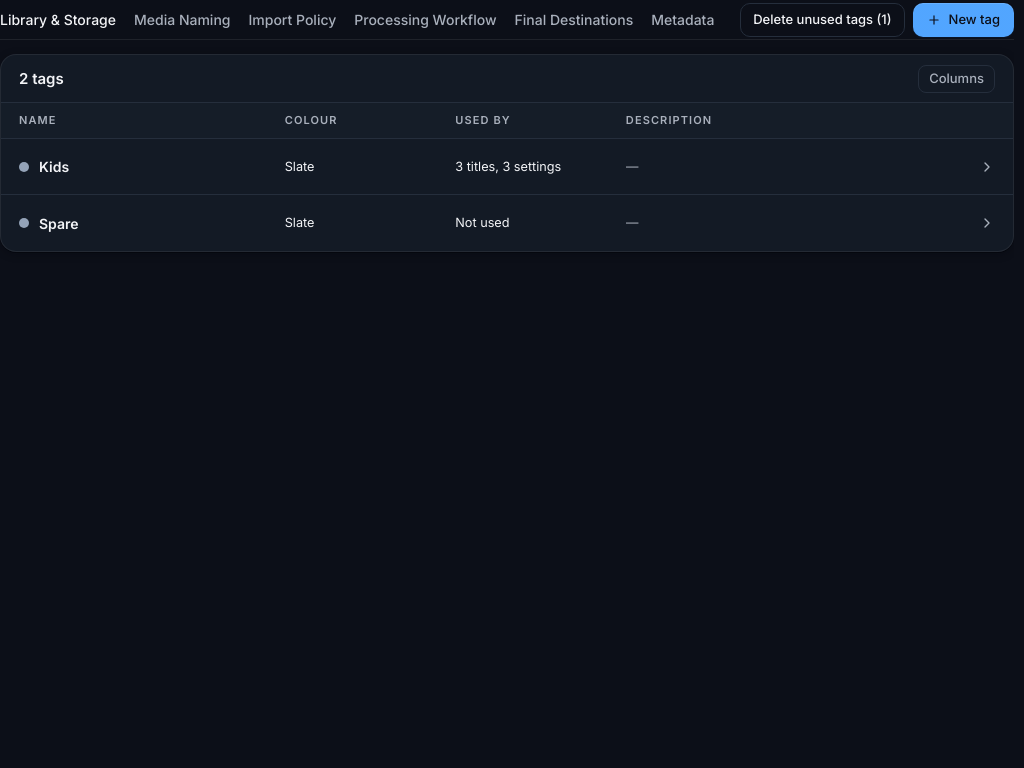
Tags page (#1039) › tells the person the server's reason when a repeated tag name is refused (#1341)
The width and height of the screenshot is (1024, 768).
Click the button "New tag".
click(963, 20)  # box [913, 2, 1014, 36]
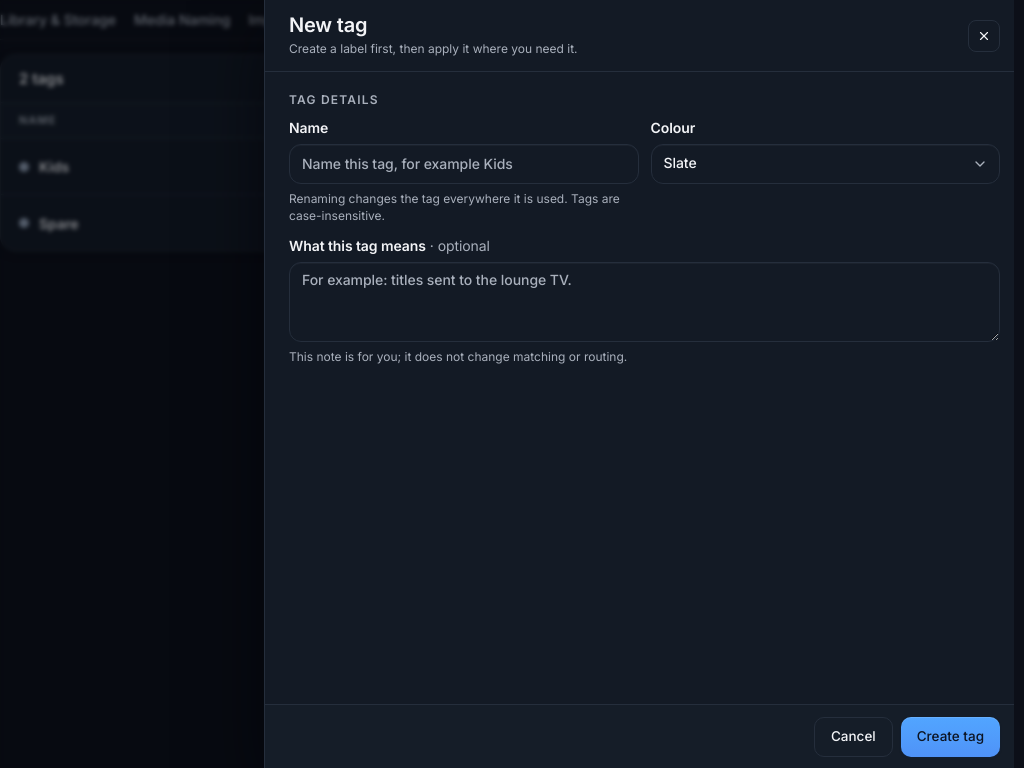
Type "KIDS" into the field labelled "Name".
click(464, 164); type("KIDS")  # box [289, 144, 638, 184]
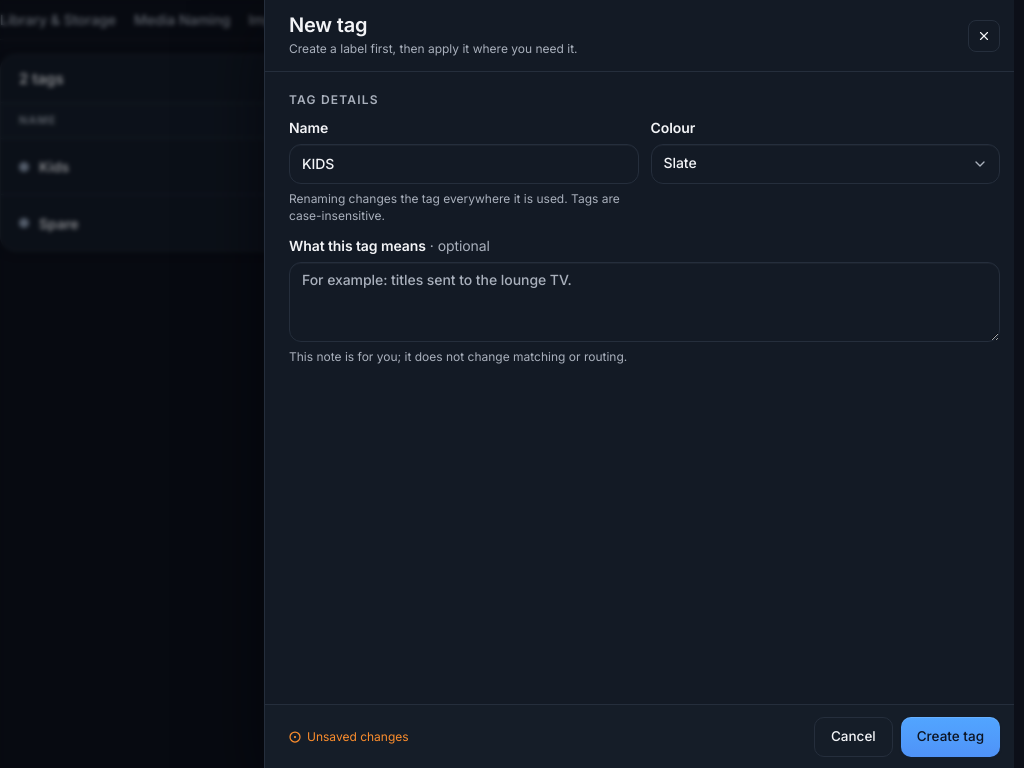
Click the button "Create tag".
click(950, 736)  # box [901, 716, 1000, 756]
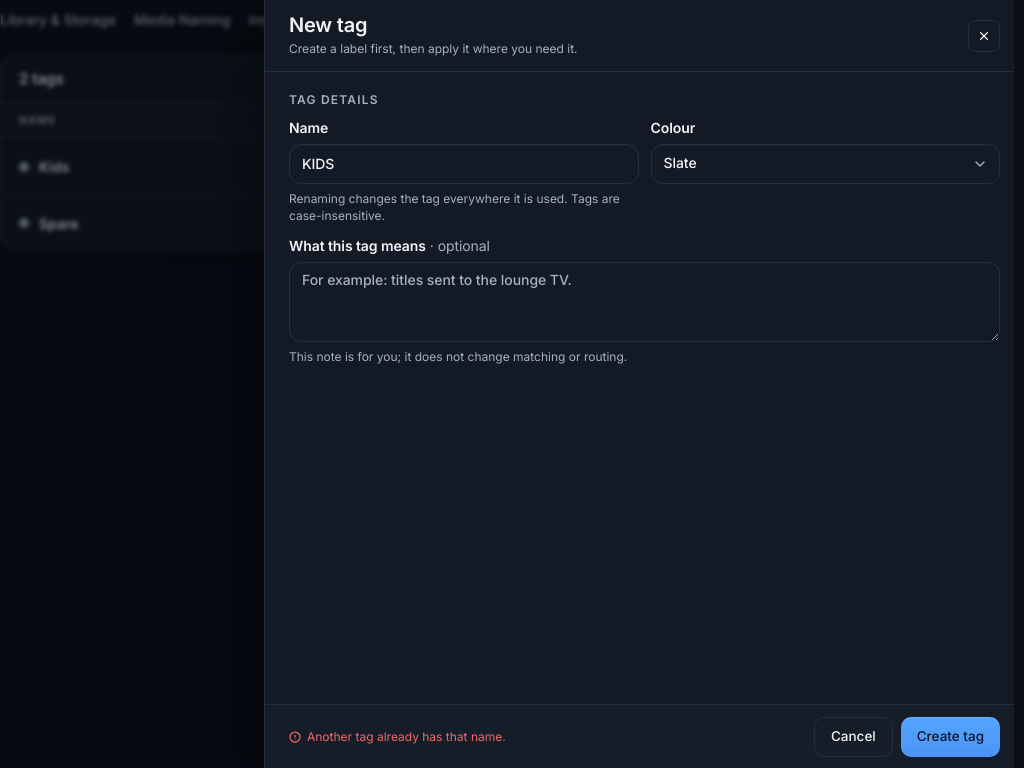
Now the text "Another tag already has that name." is shown, box [307, 728, 506, 746]
